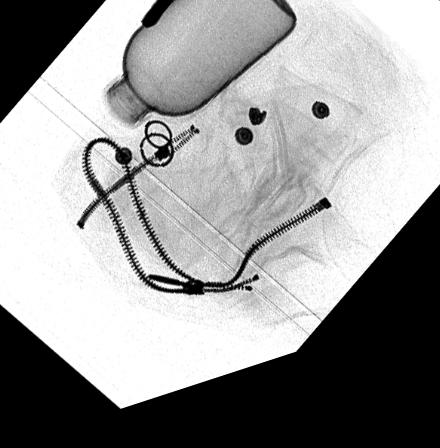Gun: (137, 0, 182, 38)
